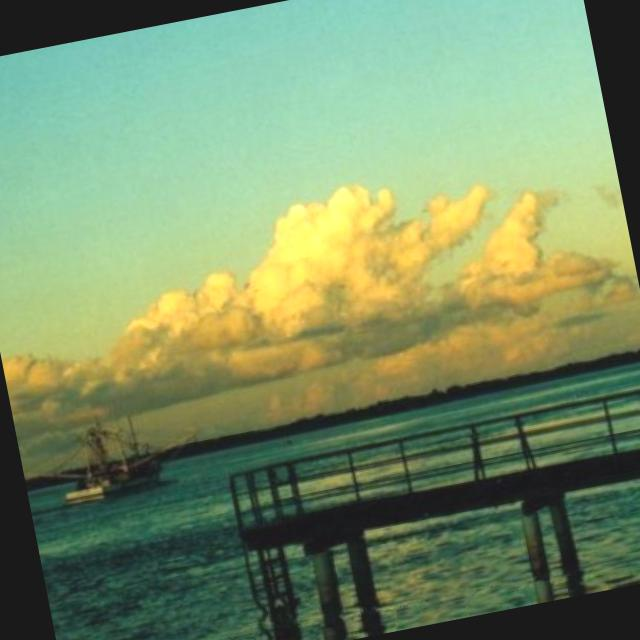cumulus: (0, 141, 640, 431)
